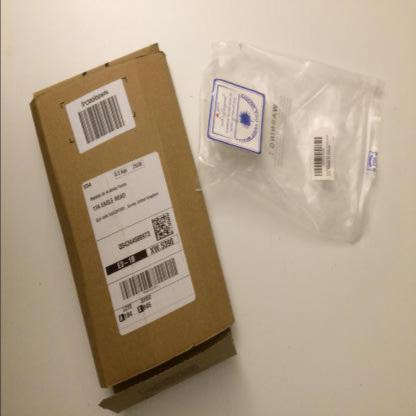Carton: (29, 42, 236, 413)
Plastic bag - wrapper: (194, 41, 387, 243)
